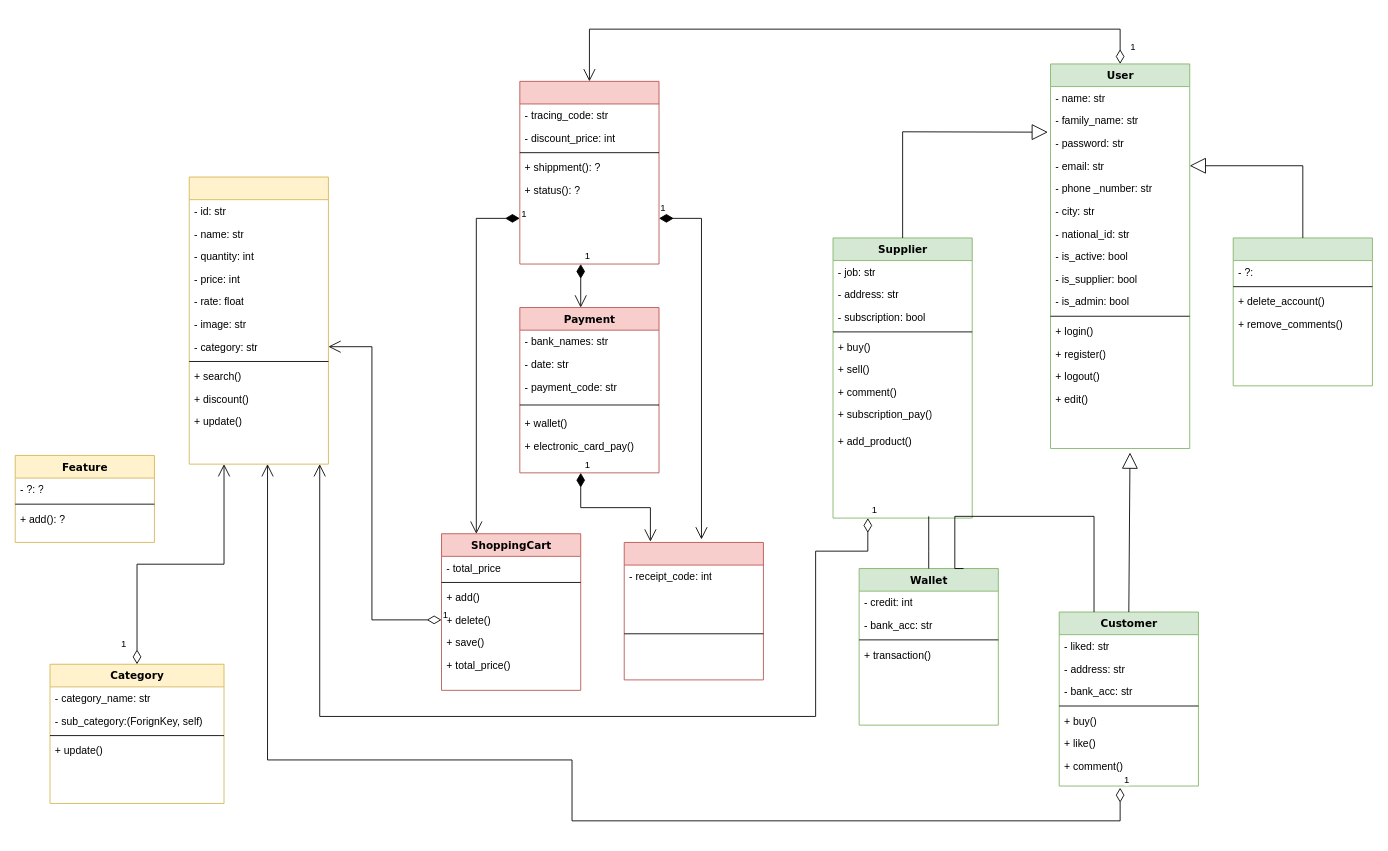
Some shapes in this 1388 by 851 pixel diagram are drawn without their labels. The shapes that lost their labels are listed below. From the top down, each one's box as (x1, y1, x2, y2) in pixels, then its label:
(519, 80, 659, 264): Order
(188, 176, 328, 464): Product
(1232, 237, 1372, 386): Admin
(623, 542, 763, 680): Factor
